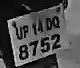1: (30, 24, 38, 37)
2: (51, 34, 62, 51)
4: (36, 21, 46, 35)
5: (39, 37, 51, 55)
7: (28, 40, 40, 57)
8: (16, 42, 31, 61)
D: (43, 18, 53, 32)
P: (23, 25, 29, 40)
Q: (52, 15, 61, 30)
U: (15, 26, 23, 41)
